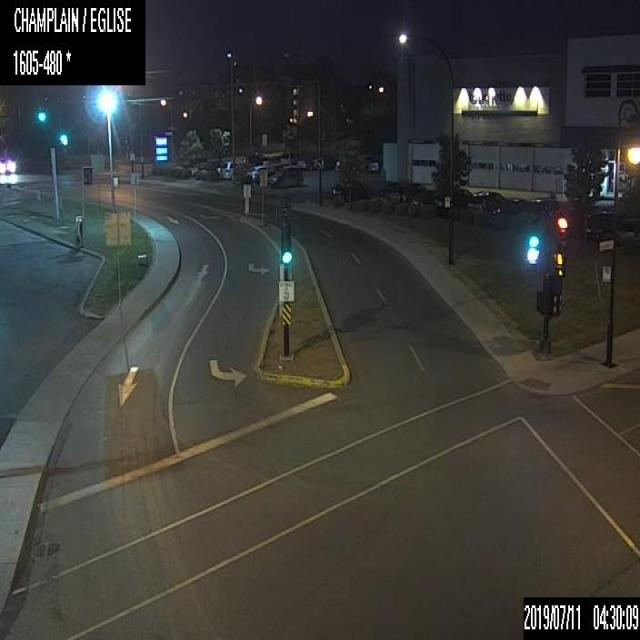vehicle: (379, 181, 425, 209), (433, 187, 472, 218), (329, 179, 370, 202), (466, 189, 504, 213), (269, 163, 304, 187), (408, 188, 434, 216), (493, 196, 528, 214), (216, 158, 242, 178), (525, 196, 548, 215), (247, 164, 269, 180), (197, 159, 220, 174), (297, 156, 315, 170), (0, 156, 15, 172), (280, 150, 298, 163)
